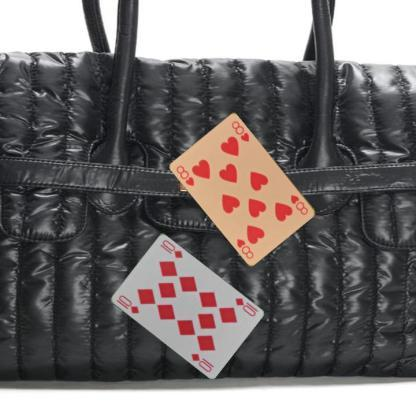10d: (113, 292, 140, 315), (232, 295, 257, 318)
8h: (174, 162, 196, 188), (288, 192, 310, 216)
